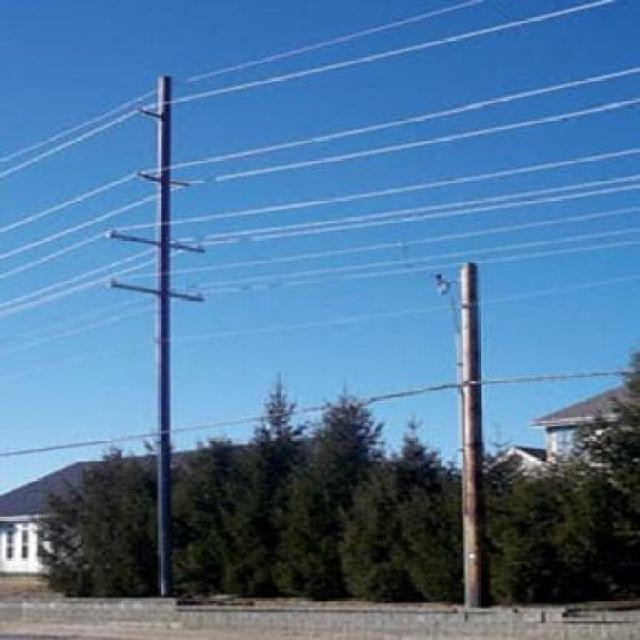pole: (113, 72, 210, 596), (439, 259, 503, 606)
